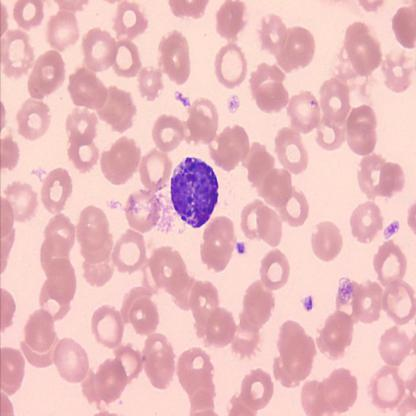Basophil: (168, 153, 221, 230)
